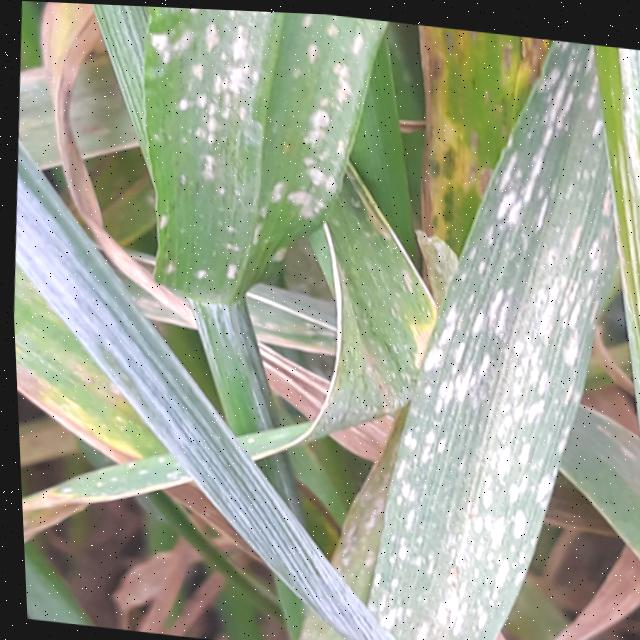powder_mildew: (307, 12, 625, 640), (125, 4, 382, 336), (9, 245, 212, 588), (552, 37, 640, 640), (5, 0, 135, 247), (215, 325, 352, 476)
